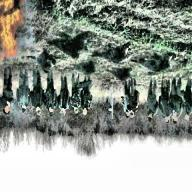boar: (48, 25, 96, 58), (135, 45, 177, 76), (100, 32, 134, 67), (71, 58, 99, 81), (36, 53, 60, 74), (105, 68, 135, 81)
